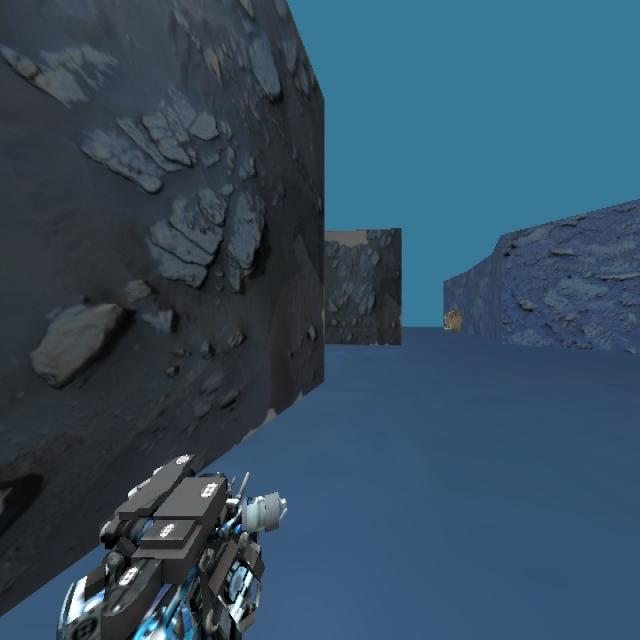Ice: (444, 308, 462, 331)
